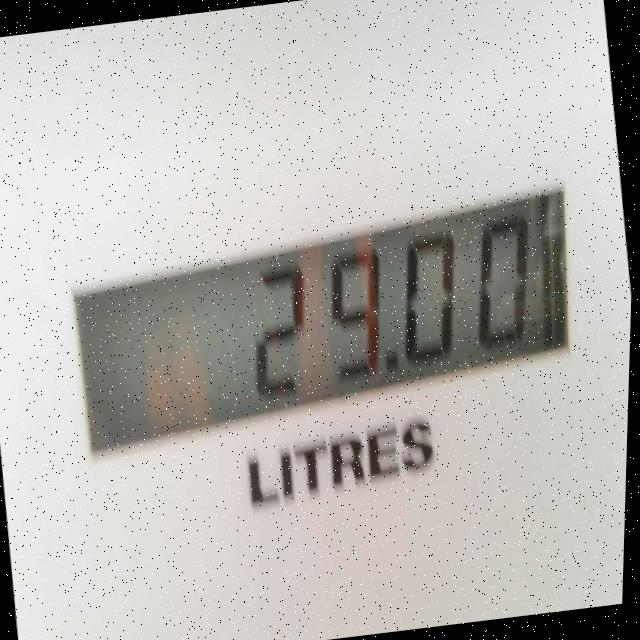.: (385, 343, 407, 382)
0: (462, 211, 551, 364), (389, 225, 469, 369)
2: (231, 257, 321, 403)
9: (311, 238, 394, 392)
